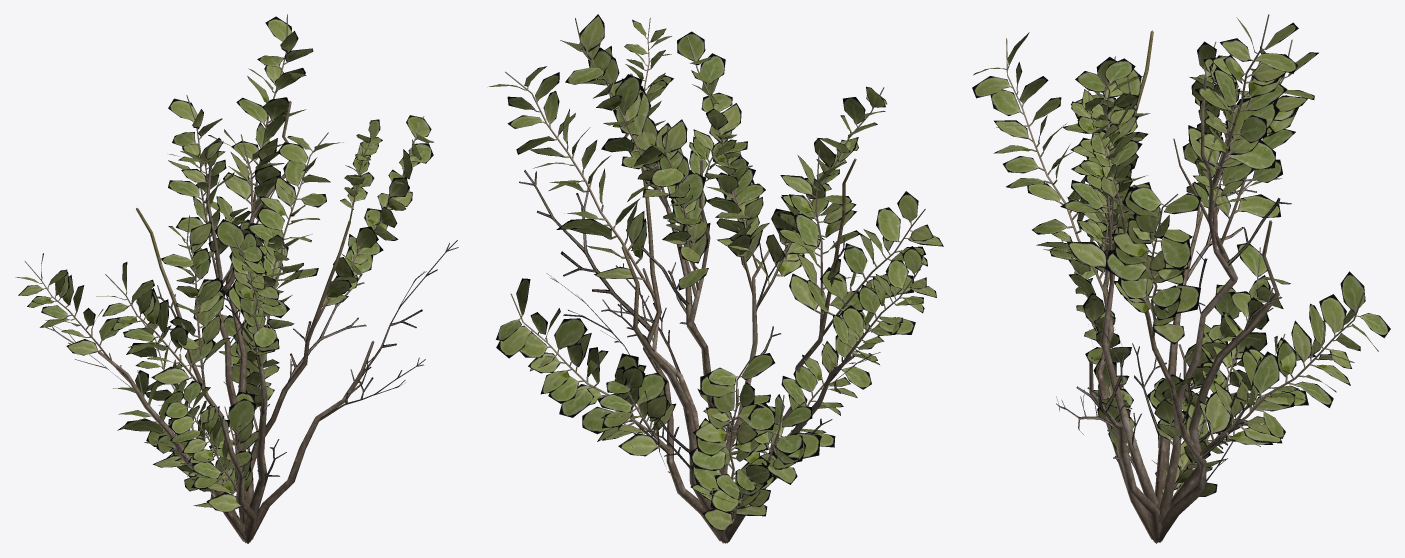
The model's file is searsia-lucida-f-512.glb.
3 views of the same model, side by side, from view 1: azimuth 30°, elevation 25°; view 2: azimuth 150°, elevation 25°; view 3: azimuth 270°, elevation 25° (orthographic). The views are drawn at different scales.
Visible parts, largest first — view 1: searsia_lucida_f_LOD0; view 2: searsia_lucida_f_LOD0; view 3: searsia_lucida_f_LOD0.
Part boxes in pixels (left/top/right/bottom): searsia_lucida_f_LOD0: left=15, top=14, right=458, bottom=543; searsia_lucida_f_LOD0: left=489, top=14, right=943, bottom=543; searsia_lucida_f_LOD0: left=972, top=14, right=1390, bottom=543.
Size of the model in its own units: 0.6576 by 0.7386 by 0.4832.
Materials: 2 (2 with a texture image).
